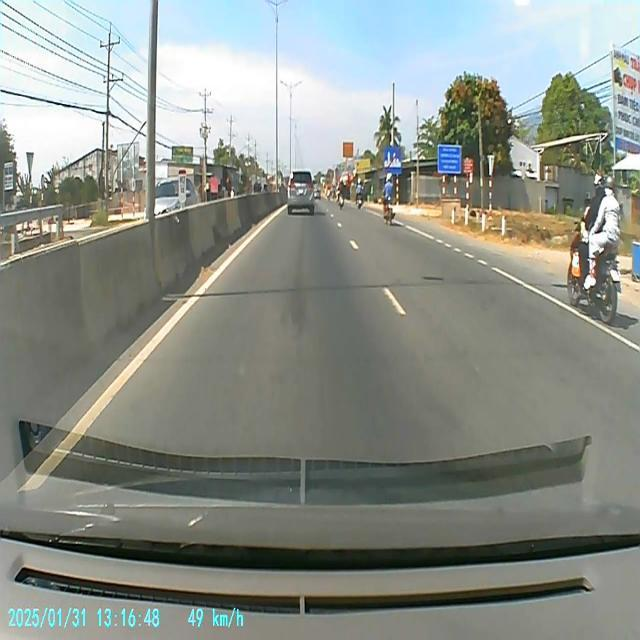421-ket-thuc-khu-dong-dan-cu: (384, 146, 402, 174)
